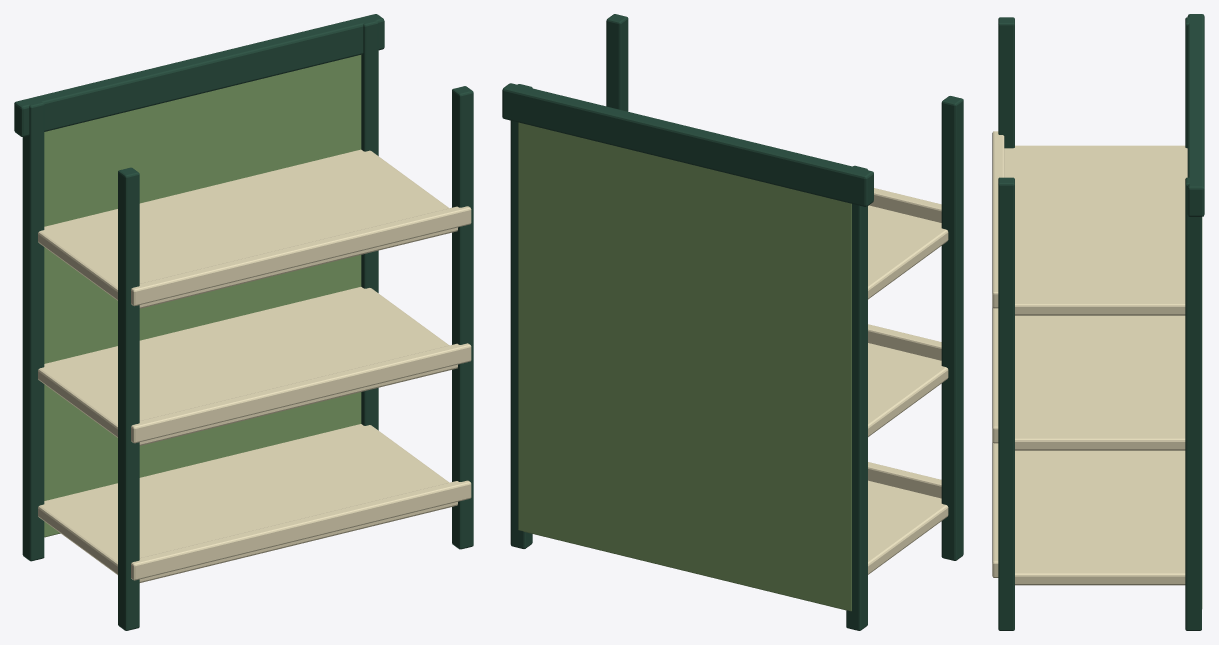
Rendered from household_rack.fbx.
The picture shows the model from 3 angles, left to right: view 1: azimuth 30°, elevation 25°; view 2: azimuth 150°, elevation 25°; view 3: azimuth 270°, elevation 25°; orthographic projection. The views are drawn at different scales.
Parts seen in each view (by area): view 1: household_rack; view 2: household_rack; view 3: household_rack.
Boxes of the visible parts, bbox=[...] form: household_rack: bbox=[14, 14, 473, 630]; household_rack: bbox=[502, 14, 963, 630]; household_rack: bbox=[992, 14, 1204, 630].
Size of the model in its own units: 86 by 103 by 44.2.
